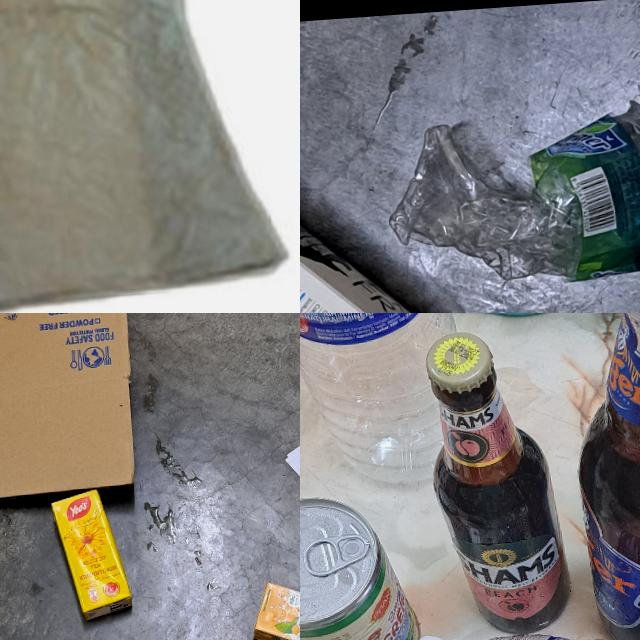aba de lata: (306, 536, 371, 577)
caixinha: (300, 122, 535, 313), (48, 488, 134, 622), (248, 575, 300, 640)
garrafa de vidro: (420, 326, 574, 638), (564, 313, 640, 640)
garrafa plástica: (382, 100, 640, 293), (300, 313, 465, 492)
lata: (300, 495, 422, 640)
papel: (278, 396, 300, 565)
papelão: (0, 313, 141, 505)
sacola plástica: (0, 0, 300, 313)
